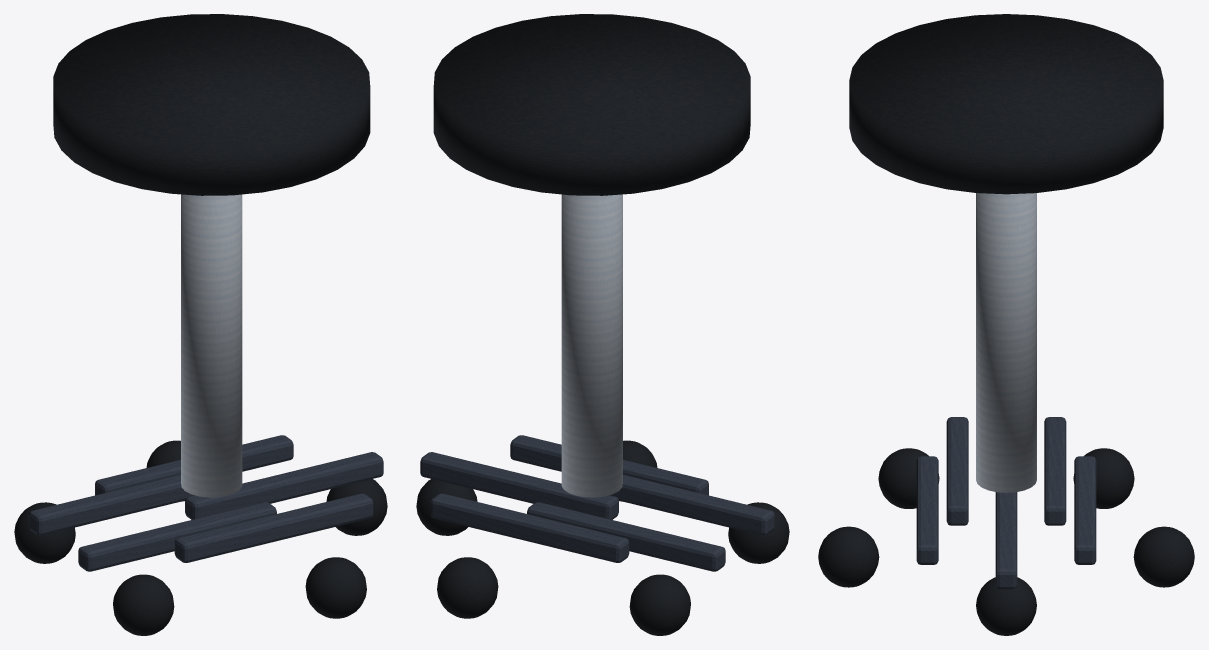
Rendered from RollingStool.obj.
3 views of the same model, side by side, from view 1: azimuth 30°, elevation 25°; view 2: azimuth 150°, elevation 25°; view 3: azimuth 270°, elevation 25° (orthographic).
Parts seen in each view (by area): view 1: Seat, Post.004, Caster_Arm.004, Caster_Arm, Caster_Arm.002, Caster_Arm.003, Caster.004, Caster.003, Caster_Arm.001, Caster.002, Caster, Caster.001; view 2: Seat, Post.004, Caster_Arm.001, Caster_Arm, Caster_Arm.003, Caster_Arm.002, Caster.001, Caster.002, Caster_Arm.004, Caster.003, Caster, Caster.004; view 3: Seat, Post.004, Caster.001, Caster.004, Caster, Caster_Arm.002, Caster_Arm.003, Caster_Arm.001, Caster_Arm.004, Caster_Arm, Caster.002, Caster.003.
Boxes of the visible parts, <box> form: Seat: <box>53,14,370,195</box>; Post.004: <box>181,194,242,497</box>; Caster_Arm.004: <box>174,493,373,562</box>; Caster_Arm: <box>185,452,383,519</box>; Caster_Arm.002: <box>29,474,193,535</box>; Caster_Arm.003: <box>78,502,276,571</box>; Caster.004: <box>305,557,366,618</box>; Caster.003: <box>113,574,174,635</box>; Caster_Arm.001: <box>95,435,293,495</box>; Caster.002: <box>14,502,75,563</box>; Caster: <box>326,479,387,535</box>; Caster.001: <box>146,440,184,501</box>; Seat: <box>433,14,750,195</box>; Post.004: <box>561,194,622,497</box>; Caster_Arm.001: <box>430,493,629,562</box>; Caster_Arm: <box>420,452,618,519</box>; Caster_Arm.003: <box>610,474,774,535</box>; Caster_Arm.002: <box>527,502,725,571</box>; Caster.001: <box>437,557,498,618</box>; Caster.002: <box>629,574,690,635</box>; Caster_Arm.004: <box>510,435,708,495</box>; Caster.003: <box>728,502,789,563</box>; Caster: <box>416,479,477,535</box>; Caster.004: <box>619,440,657,501</box>; Seat: <box>849,14,1163,194</box>; Post.004: <box>976,193,1036,492</box>; Caster.001: <box>1133,526,1194,587</box>; Caster.004: <box>818,526,879,587</box>; Caster: <box>976,577,1036,635</box>; Caster_Arm.002: <box>1044,417,1066,525</box>; Caster_Arm.003: <box>946,417,968,525</box>; Caster_Arm.001: <box>1074,456,1096,564</box>; Caster_Arm.004: <box>916,456,938,564</box>; Caster_Arm: <box>995,492,1017,589</box>; Caster.002: <box>1073,448,1134,508</box>; Caster.003: <box>878,448,939,508</box>.
Size of the model in its own units: 0.4269 by 0.61 by 0.4314.
